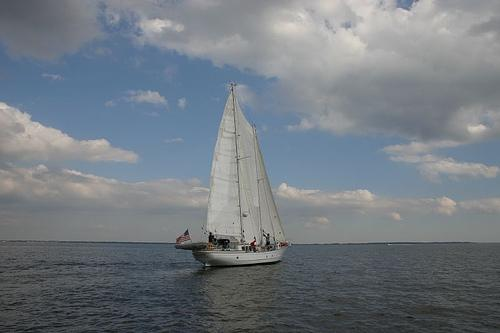Ship: (177, 81, 291, 269)
